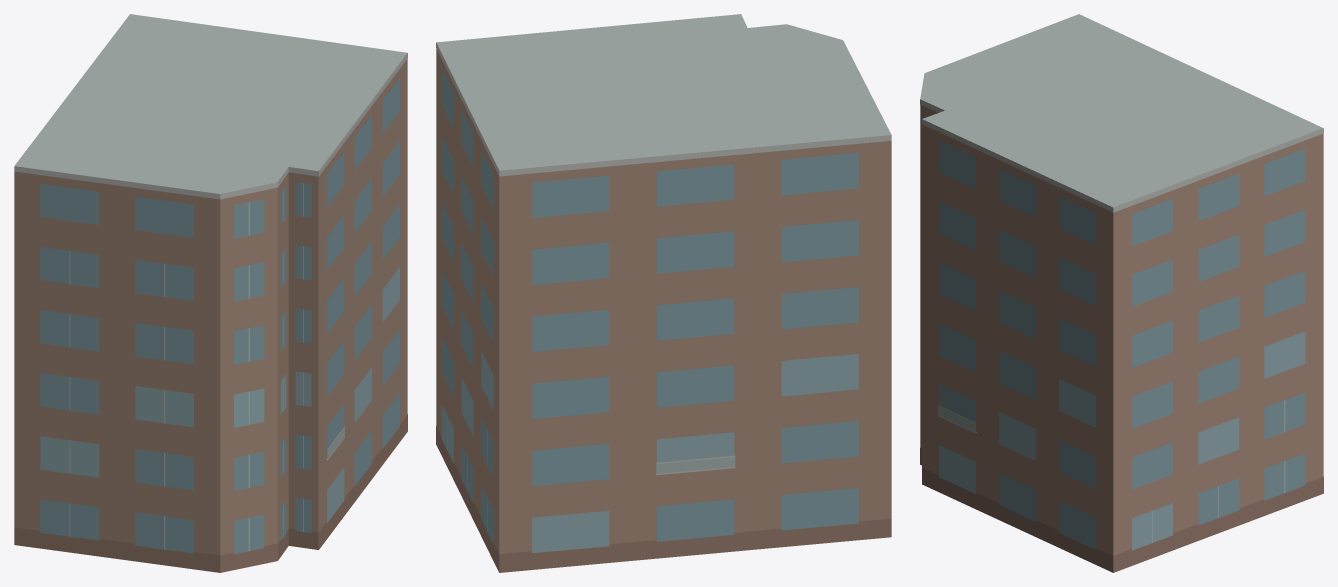
File: survey-upis-32947839.glb
The picture shows the model from 3 angles, left to right: view 1: azimuth 30°, elevation 25°; view 2: azimuth 150°, elevation 25°; view 3: azimuth 270°, elevation 25°; orthographic projection. The views are drawn at different scales.
Visible parts, largest first — view 1: survey-upis-32947839.tmp; view 2: survey-upis-32947839.tmp; view 3: survey-upis-32947839.tmp.
Part boxes in pixels (box(x1,y1,x2,y2)): survey-upis-32947839.tmp: box(14, 14, 407, 572); survey-upis-32947839.tmp: box(436, 14, 891, 572); survey-upis-32947839.tmp: box(920, 14, 1323, 572).
Bounding box in the file's own units: 19.44 × 17.1 × 17.13.
